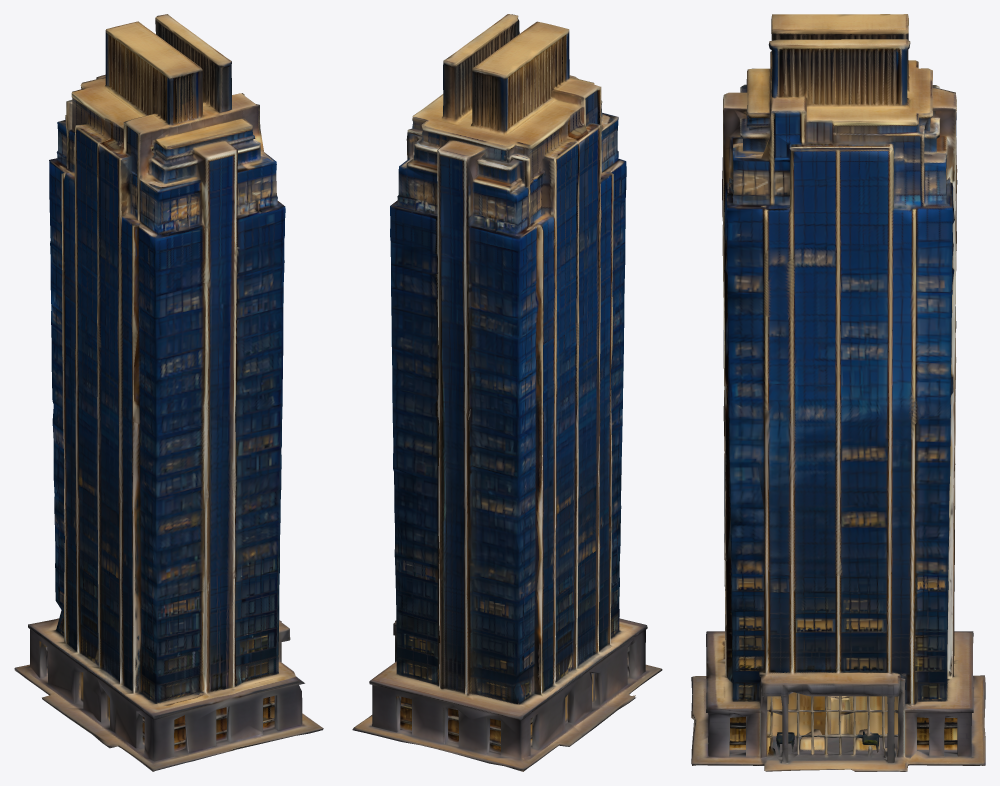
Rendered from office_tower.glb.
The picture shows the model from 3 angles, left to right: view 1: azimuth 30°, elevation 25°; view 2: azimuth 150°, elevation 25°; view 3: azimuth 270°, elevation 25°; orthographic projection. The views are drawn at different scales.
Parts seen in each view (by area): view 1: tripo_node_365d1d8b-0ebb-4f4d-b4fc-1b57c8323575; view 2: tripo_node_365d1d8b-0ebb-4f4d-b4fc-1b57c8323575; view 3: tripo_node_365d1d8b-0ebb-4f4d-b4fc-1b57c8323575.
Boxes of the visible parts, x1,y1,x2,y2 form: tripo_node_365d1d8b-0ebb-4f4d-b4fc-1b57c8323575: [14, 14, 323, 771]; tripo_node_365d1d8b-0ebb-4f4d-b4fc-1b57c8323575: [352, 14, 662, 771]; tripo_node_365d1d8b-0ebb-4f4d-b4fc-1b57c8323575: [691, 14, 985, 771].
Bounding box in the file's own units: 0.3072 × 1 × 0.3852.
Materials: 1 (1 with a texture image).
